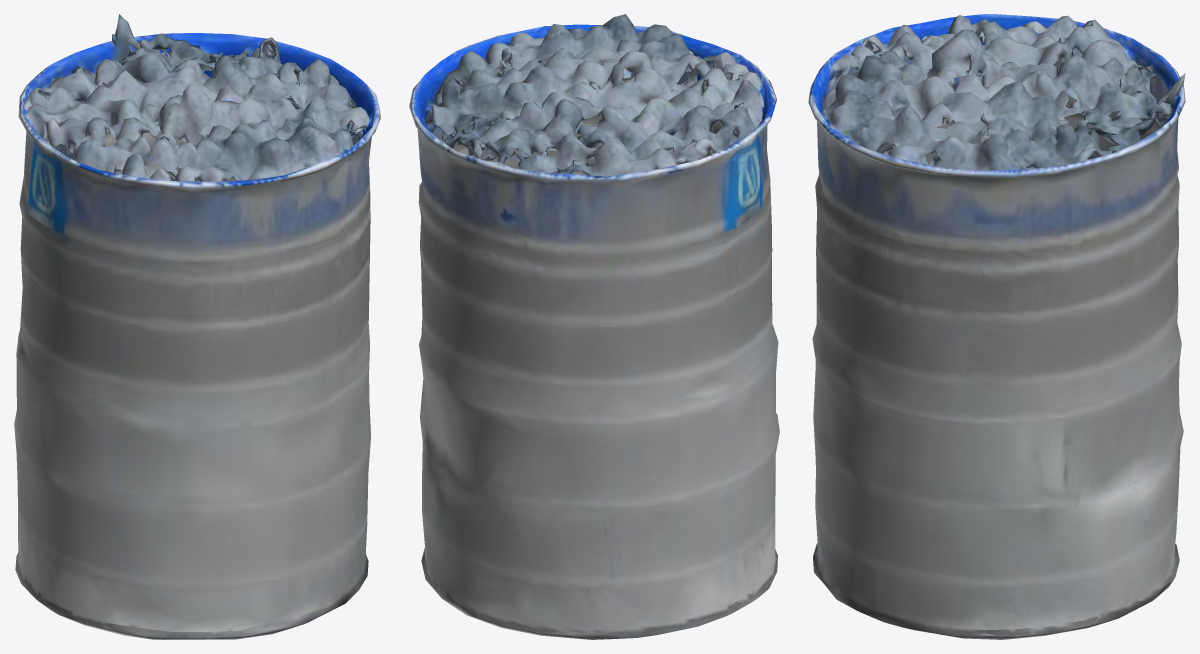
File: rh_coolant_keg.glb
3 renders of one model, left to right at view 1: azimuth 30°, elevation 25°; view 2: azimuth 150°, elevation 25°; view 3: azimuth 270°, elevation 25°, orthographic. The views are drawn at different scales.
Parts seen in each view (by area): view 1: geometry_0; view 2: geometry_0; view 3: geometry_0.
Part boxes in pixels (x1,y1,x2,y2): geometry_0: (14,14,380,639); geometry_0: (409,14,779,639); geometry_0: (808,14,1185,639).
Size of the model in its own units: 0.6613 by 1 by 0.6591.
1 material, 1 textured.
